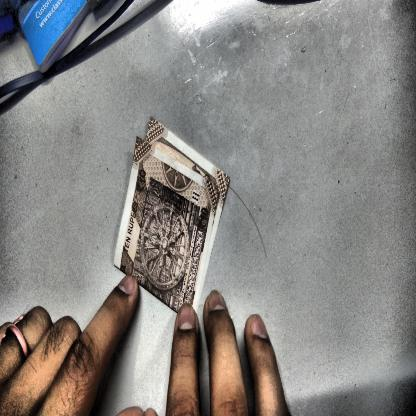Rs10: (196, 204, 211, 239)
